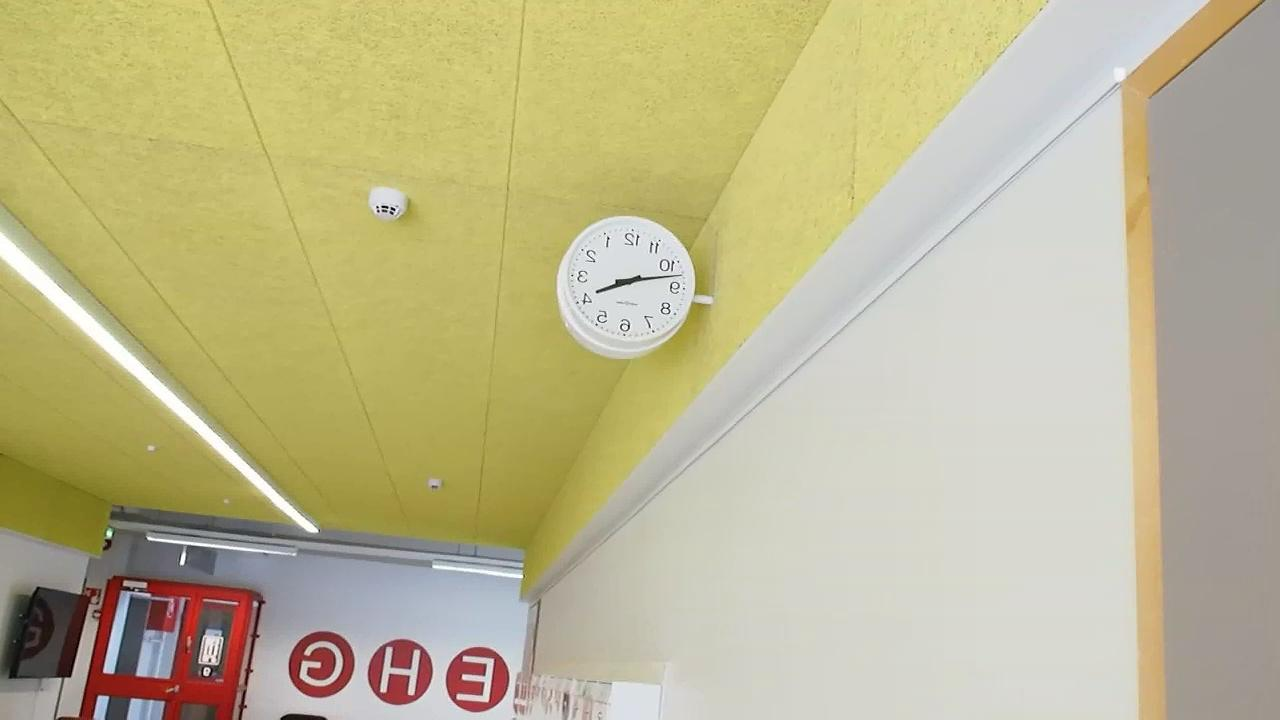clock: (555, 214, 701, 359)
